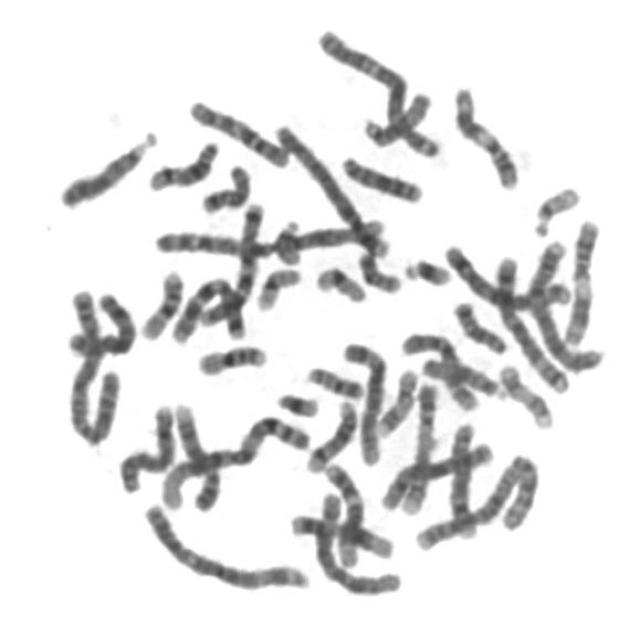A1: (155, 407, 314, 512), (148, 210, 395, 260)
A2: (410, 446, 545, 554), (61, 281, 127, 449)
A3: (312, 19, 446, 160), (137, 496, 315, 594)
B4: (270, 115, 394, 260), (523, 231, 610, 374)
B5: (491, 246, 575, 396), (439, 236, 575, 312)
C10: (183, 91, 295, 171), (396, 324, 484, 414)
C11: (448, 76, 526, 192), (559, 208, 606, 348)
C12: (284, 503, 401, 564), (320, 456, 369, 572)
C6: (307, 484, 406, 599), (337, 331, 393, 468)
C7: (197, 194, 270, 332), (166, 268, 252, 345)
C8: (62, 282, 141, 360), (444, 414, 483, 541)
C9: (396, 371, 444, 518), (168, 395, 226, 514)
D13: (53, 123, 161, 212), (336, 146, 428, 205)
D14: (300, 391, 362, 474), (142, 131, 225, 192)
D15: (357, 82, 436, 148), (416, 350, 512, 400)
E16: (136, 262, 189, 342), (192, 336, 272, 378)
E17: (494, 356, 558, 429), (373, 360, 422, 438)
E18: (448, 293, 512, 355), (196, 156, 255, 215)
F19: (250, 259, 306, 313), (310, 258, 372, 306)
F20: (351, 243, 408, 295), (301, 357, 368, 401)
G21: (399, 248, 457, 288), (271, 384, 324, 419)
G22: (527, 177, 586, 238), (271, 210, 306, 266)
X: (377, 435, 500, 514)
